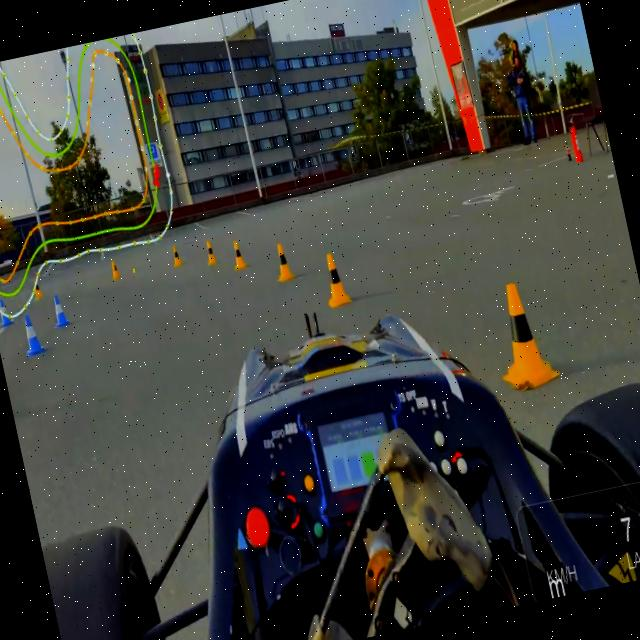yellow_cone: (484, 266, 562, 404), (314, 246, 355, 316), (265, 234, 297, 288), (195, 232, 222, 274), (223, 232, 250, 274), (160, 236, 186, 275)
